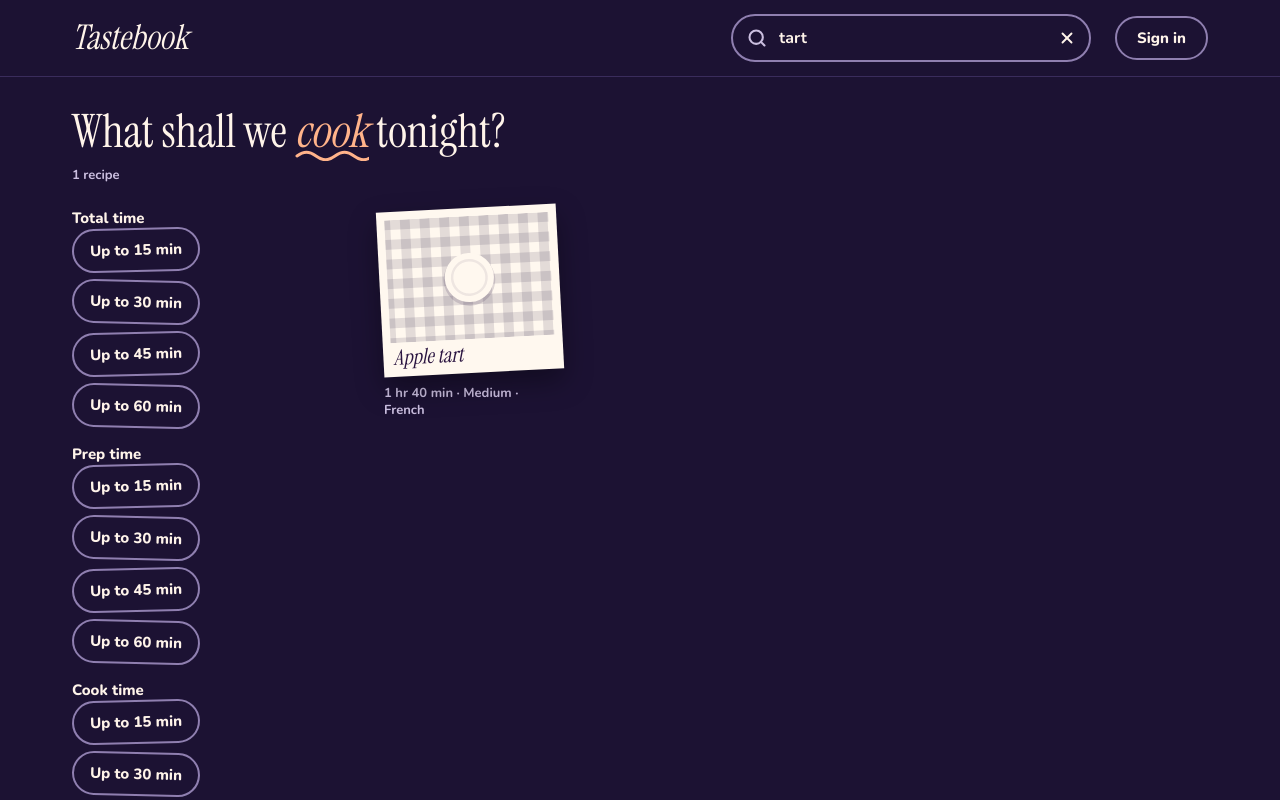
Test case: RecipesPage › clears the search with its clear button
Click the button named "Clear search" at (1067, 38), box [1045,16,1089,60]
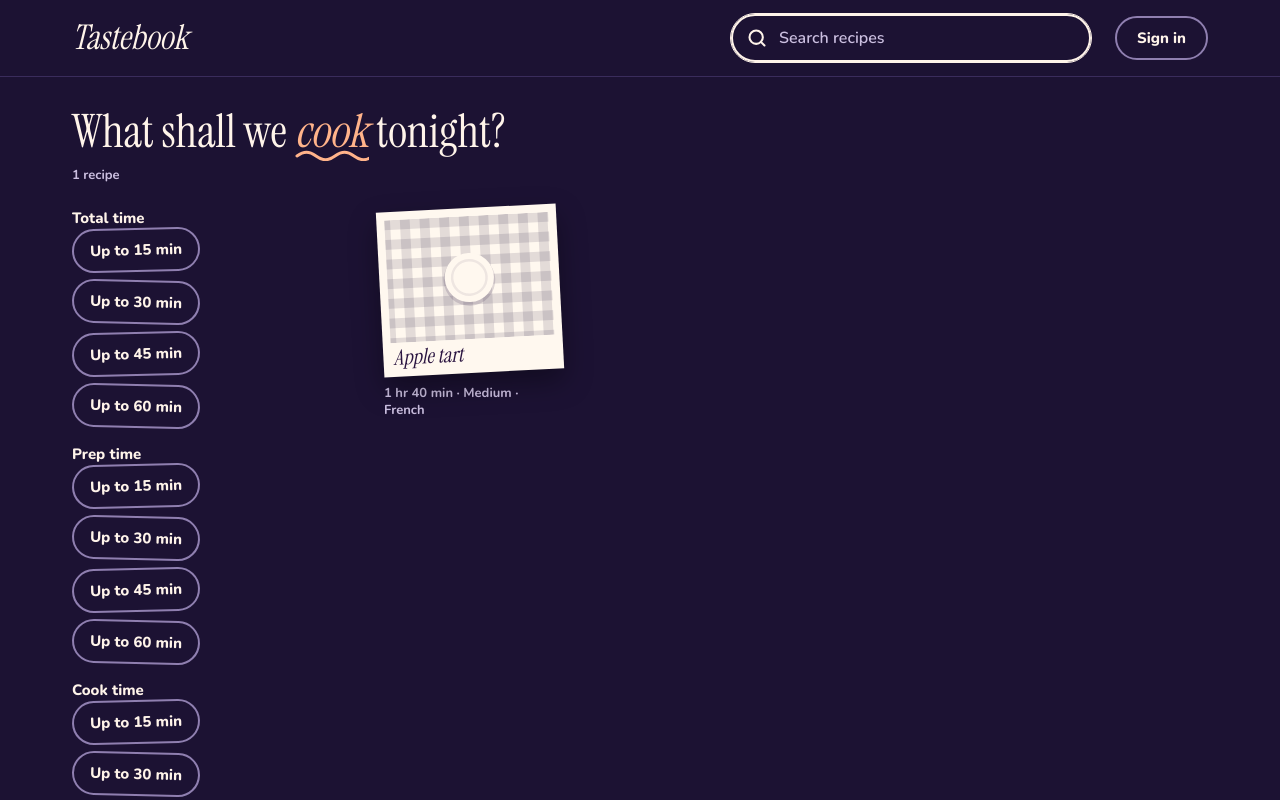
Expected: the search field labelled "Search recipes" is empty, [731,14,1091,62]
